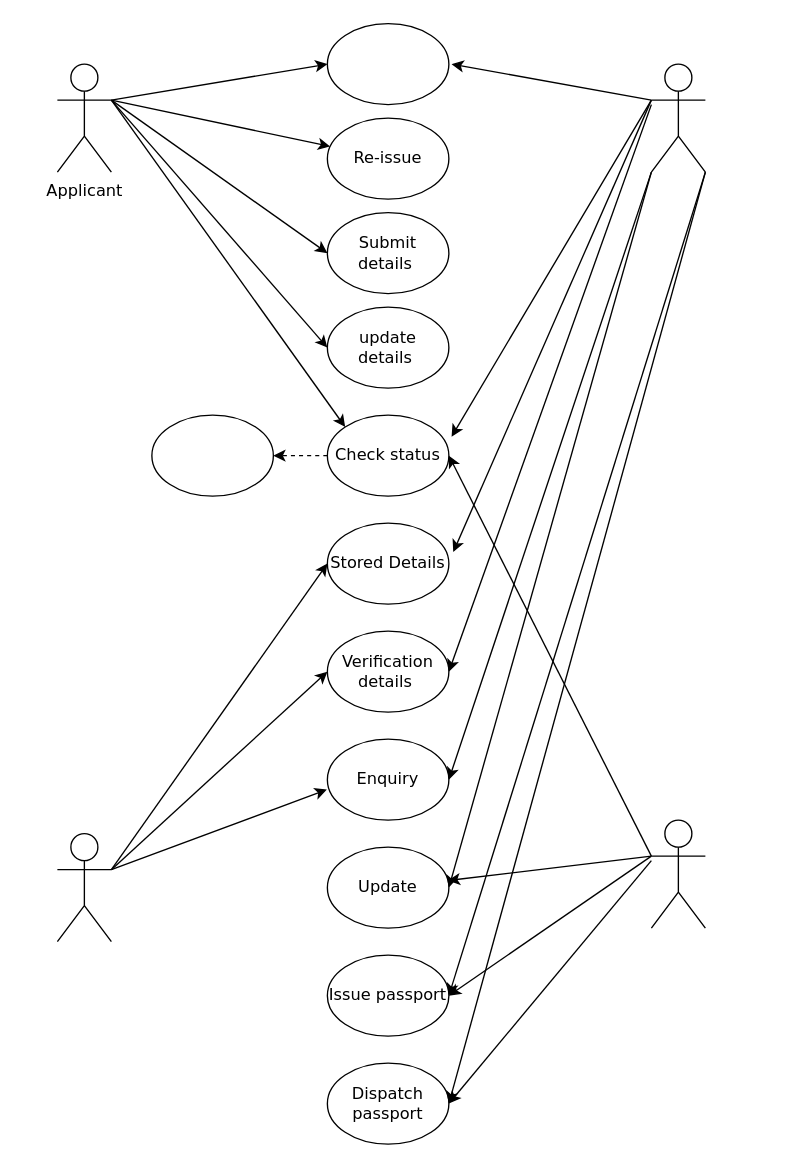
This 797x1168 diagram has some shape labels left out. Here are the shapes that lost their labels. From the top down, the centre of each, then its label:
the point at 387,63: Login
the point at 677,117: Authority
the point at 212,455: Check the details
the point at 83,887: Regional Police
the point at 677,873: Regional administrator
